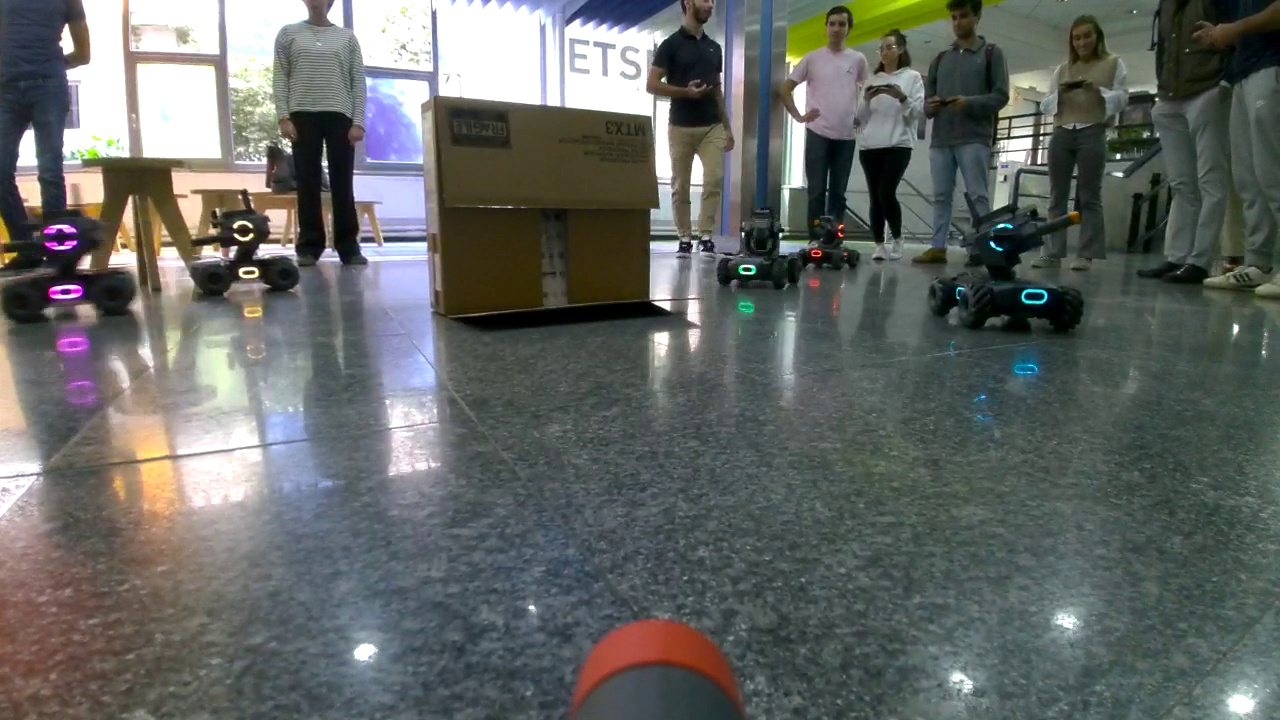robot: (942, 203, 1089, 338), (1, 202, 143, 323), (187, 212, 303, 298), (715, 212, 809, 291), (802, 211, 868, 270)
